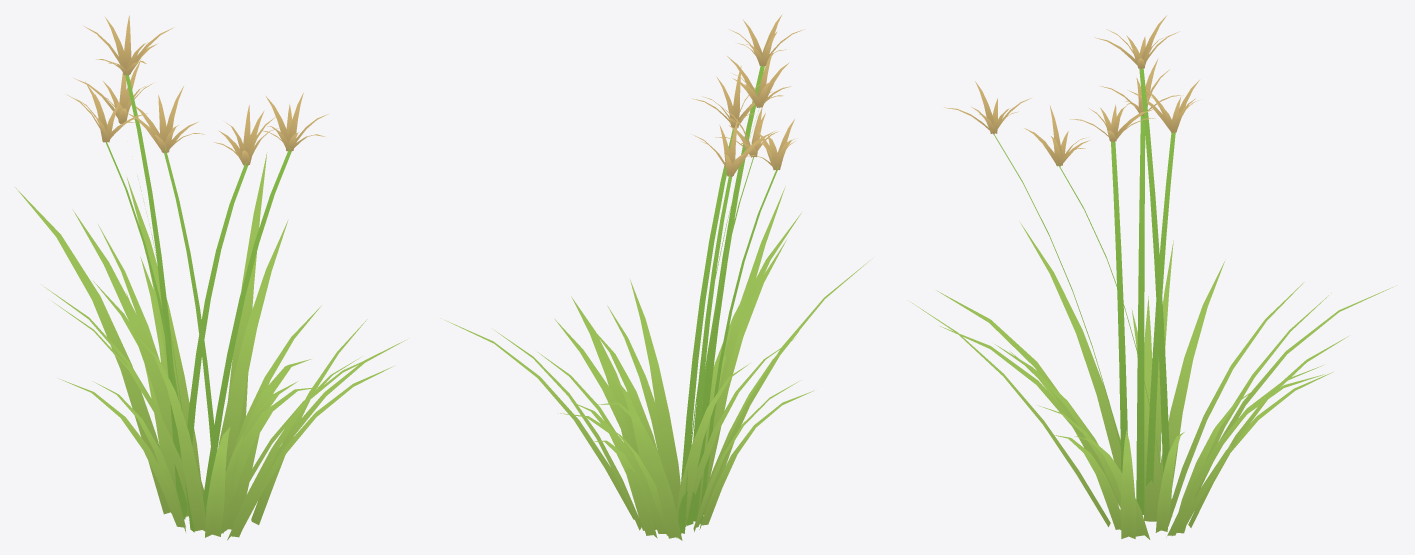
The model's file is grass_seeded1.gltf.
The picture shows the model from 3 angles, left to right: view 1: azimuth 30°, elevation 25°; view 2: azimuth 150°, elevation 25°; view 3: azimuth 270°, elevation 25°; orthographic projection. The views are drawn at different scales.
Parts seen in each view (by area): view 1: grass_seeded1_blade_LOD0, grass_seeded1_stalk_LOD0, grass_seeded1_head_LOD0; view 2: grass_seeded1_blade_LOD0, grass_seeded1_stalk_LOD0, grass_seeded1_head_LOD0; view 3: grass_seeded1_blade_LOD0, grass_seeded1_stalk_LOD0, grass_seeded1_head_LOD0.
Boxes of the visible parts, left/top/right/bottom form: grass_seeded1_blade_LOD0: left=15, top=152, right=407, bottom=540; grass_seeded1_stalk_LOD0: left=106, top=73, right=291, bottom=533; grass_seeded1_head_LOD0: left=67, top=15, right=328, bottom=165; grass_seeded1_blade_LOD0: left=441, top=187, right=872, bottom=540; grass_seeded1_stalk_LOD0: left=678, top=65, right=778, bottom=533; grass_seeded1_head_LOD0: left=692, top=14, right=804, bottom=176; grass_seeded1_blade_LOD0: left=911, top=221, right=1396, bottom=539; grass_seeded1_stalk_LOD0: left=994, top=68, right=1175, bottom=516; grass_seeded1_head_LOD0: left=944, top=15, right=1199, bottom=166.
Size of what is drawn, in the model's own units: 0.68 by 1.08 by 1.05.
